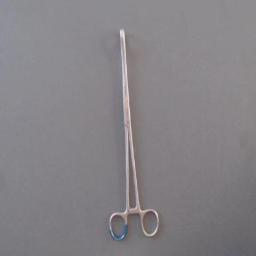Sponge Forceps: (104, 26, 164, 246)
